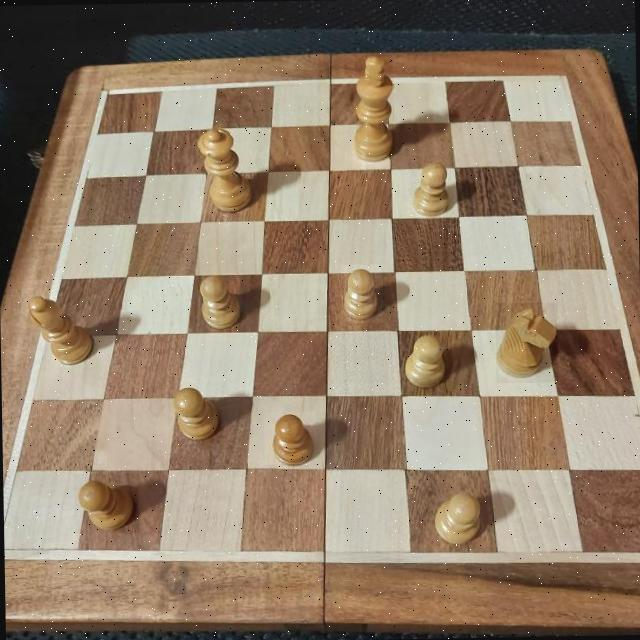white-camel: (23, 296, 97, 367)
white-horse: (495, 302, 558, 383)
white-king: (355, 54, 395, 160)
white-pawn: (167, 382, 228, 451), (427, 481, 488, 549), (74, 472, 138, 534), (408, 154, 456, 222), (403, 330, 452, 396), (196, 272, 248, 326), (264, 411, 316, 464), (341, 264, 384, 323)
white-queen: (189, 121, 258, 214)
